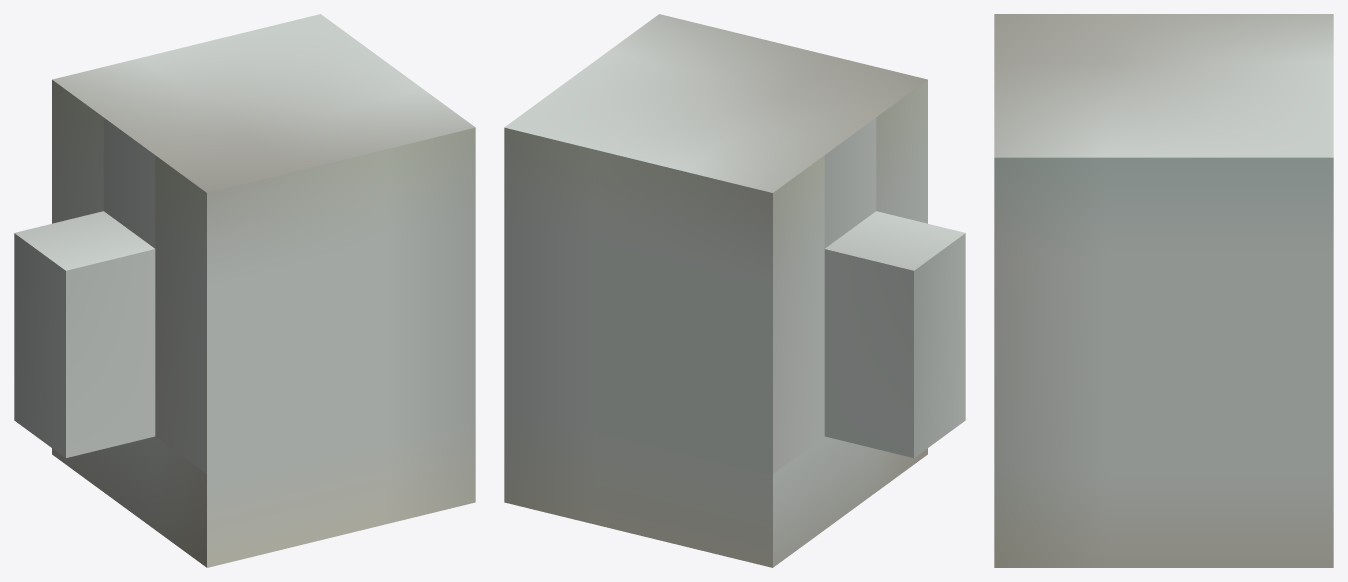
The model's file is Mug_00.obj.
3 views of the same model, side by side, from view 1: azimuth 30°, elevation 25°; view 2: azimuth 150°, elevation 25°; view 3: azimuth 270°, elevation 25° (orthographic). The views are drawn at different scales.
Parts seen in each view (by area): view 1: Mug_00; view 2: Mug_00; view 3: Mug_00.
Part boxes in pixels (bbox=[...]): Mug_00: bbox=[14, 14, 475, 567]; Mug_00: bbox=[504, 14, 965, 567]; Mug_00: bbox=[994, 14, 1333, 567].
Bounding box in the file's own units: 0.2 × 0.2 × 0.15.
